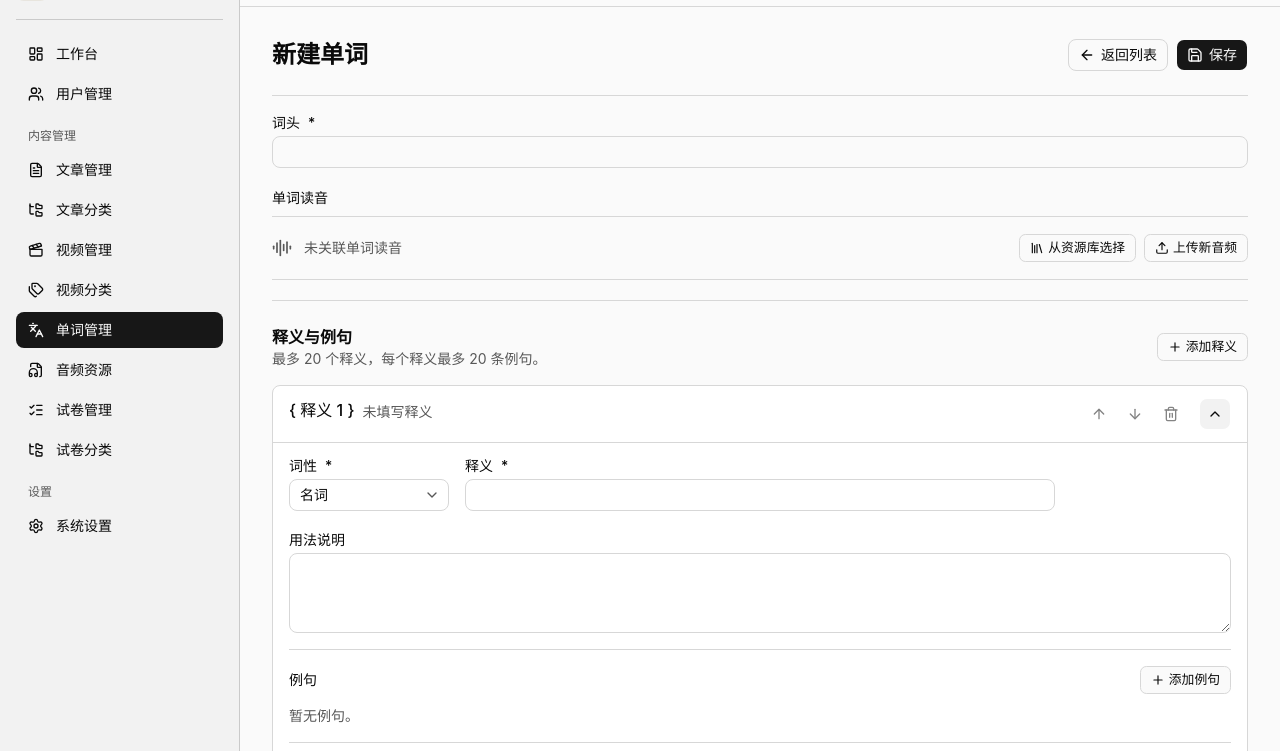
Test: WordEditor › keeps examples optional and supports adding them in place
Expected: the field labelled "释义 *" is shown, left=465, top=479, right=1055, bottom=511
Expected: the text "暂无例句。" is shown, left=289, top=707, right=359, bottom=724
Click the button "添加例句" at (1185, 680), box left=1140, top=666, right=1231, bottom=694
(page scrolled)
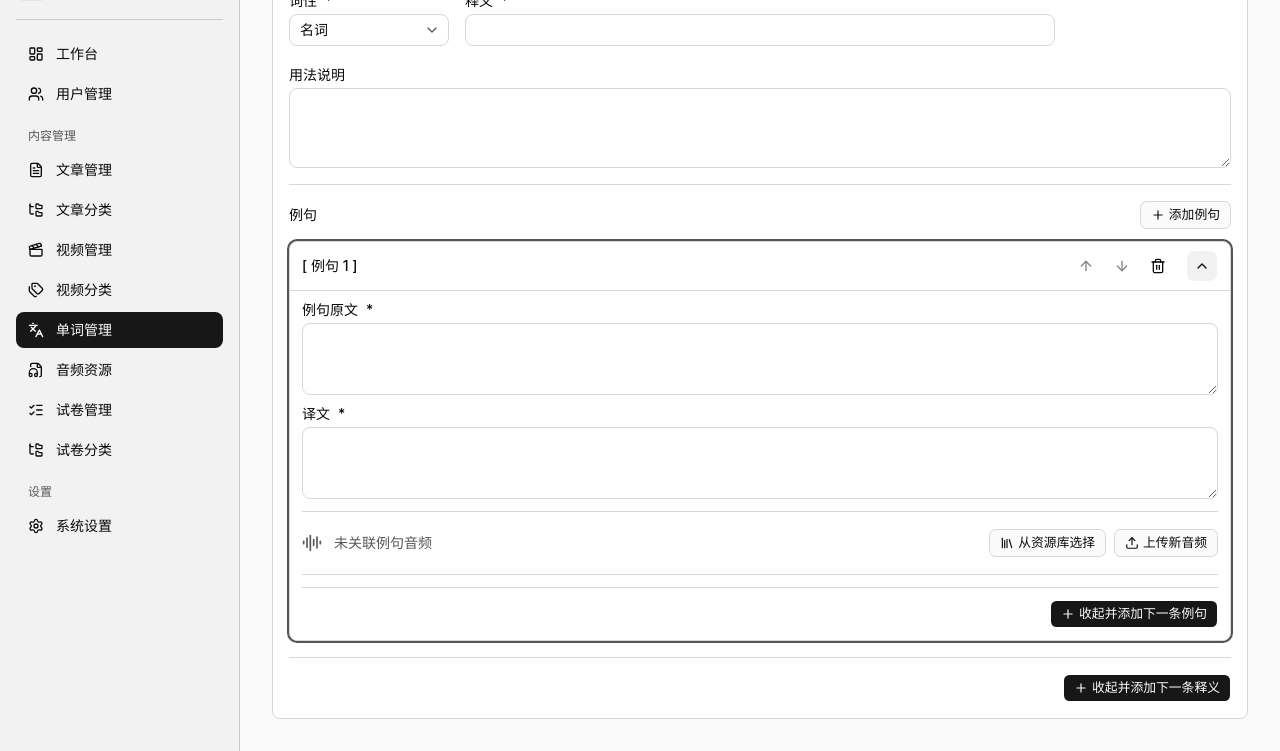
Expected: the text "未关联例句音频" is shown, left=334, top=533, right=432, bottom=553
Type "第一条例句" into the text box labelled "例句原文 *" at (760, 359), box left=302, top=323, right=1218, bottom=395
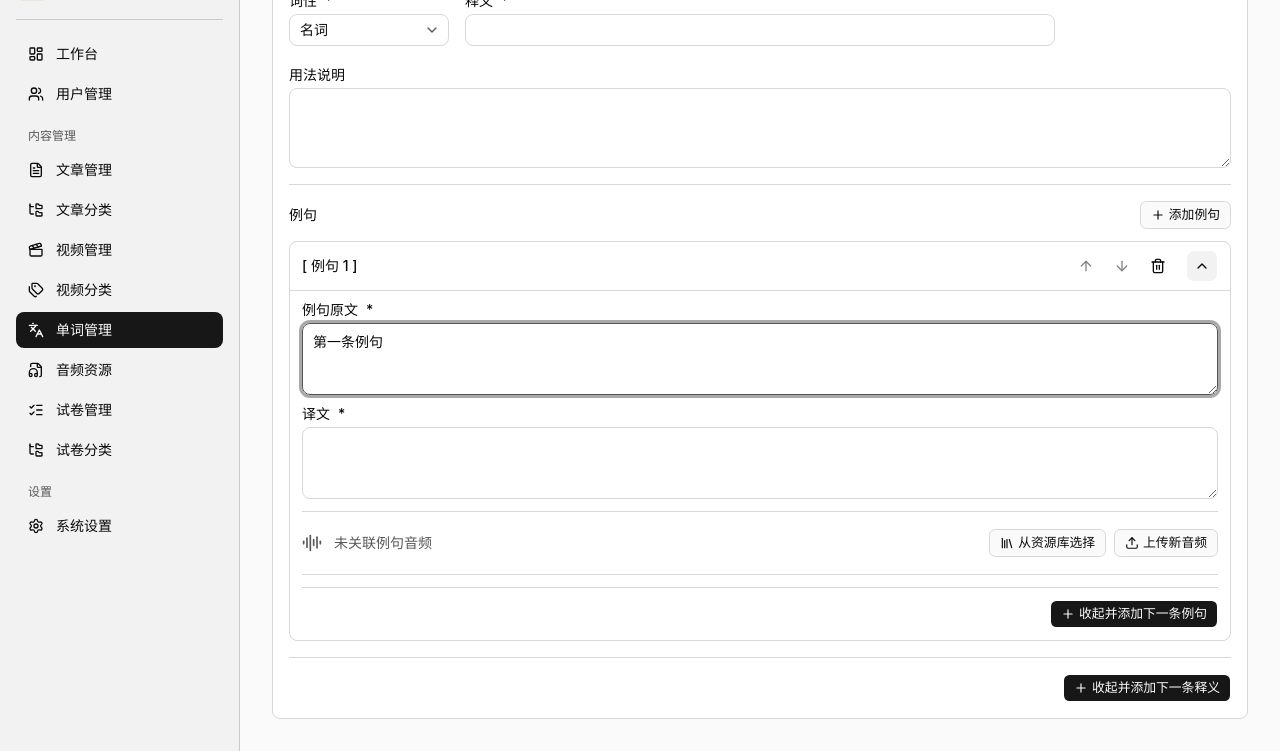
Click the button "收起并添加下一条例句" at (1134, 614), box left=1050, top=600, right=1218, bottom=628
(page scrolled)
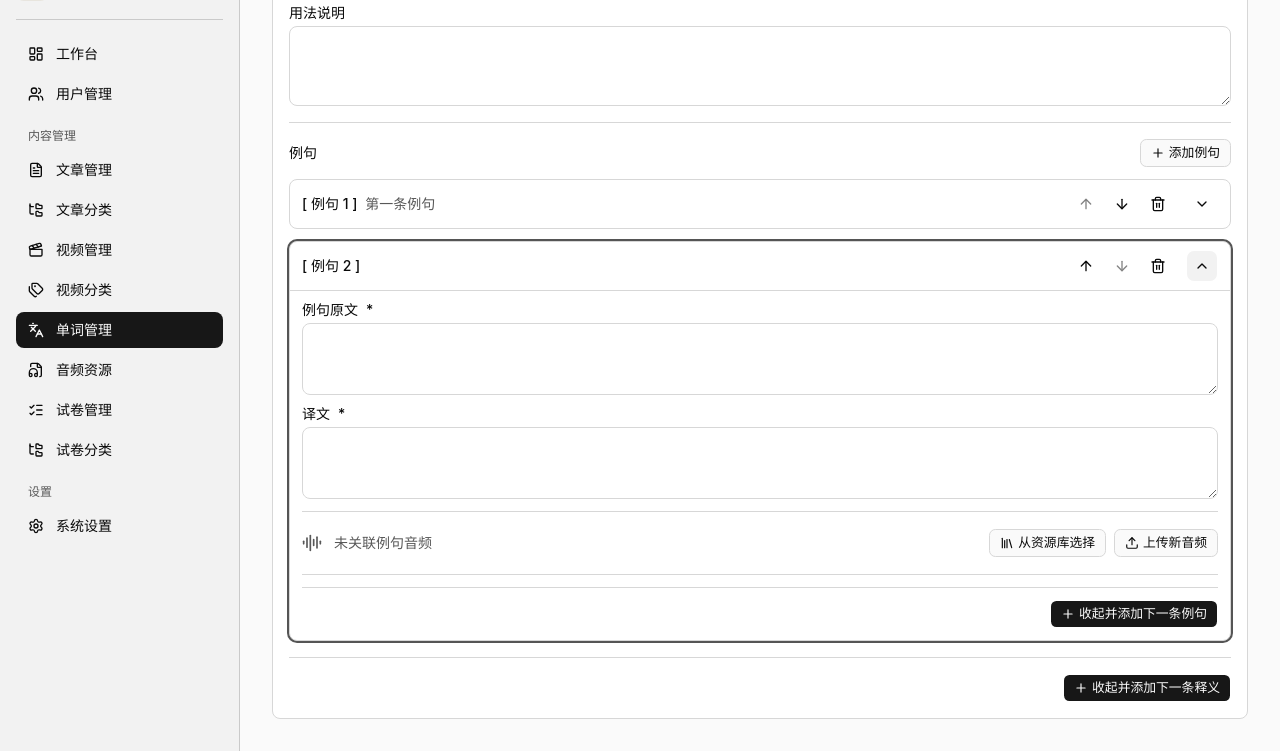
Expected: the button named "折叠例句 2" is shown, left=1186, top=250, right=1218, bottom=282
Expected: the button named "展开例句 1" is shown, left=1186, top=188, right=1218, bottom=220
Expected: the text "第一条例句" is shown, left=365, top=194, right=435, bottom=214
